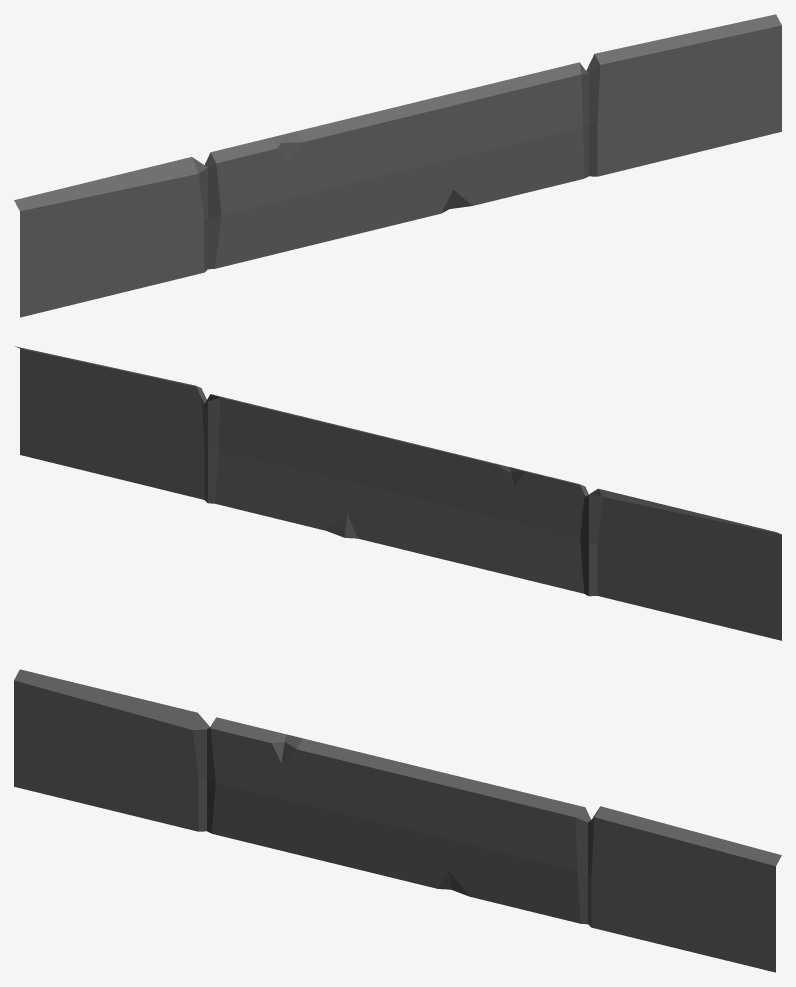
File: SM_Foundation_3m_A.fbx
The picture shows the model from 3 angles, top to bottom: view 1: azimuth 30°, elevation 25°; view 2: azimuth 150°, elevation 25°; view 3: azimuth 330°, elevation 25°; orthographic projection.
Parts seen in each view (by area): view 1: SM_Foundation_3m_A; view 2: SM_Foundation_3m_A; view 3: SM_Foundation_3m_A.
Boxes of the visible parts, x1,y1,x2,y2 form: SM_Foundation_3m_A: (14, 14, 781, 317); SM_Foundation_3m_A: (15, 346, 781, 640); SM_Foundation_3m_A: (14, 669, 781, 972).
Bounding box in the file's own units: 300 × 44.37 × 4.
